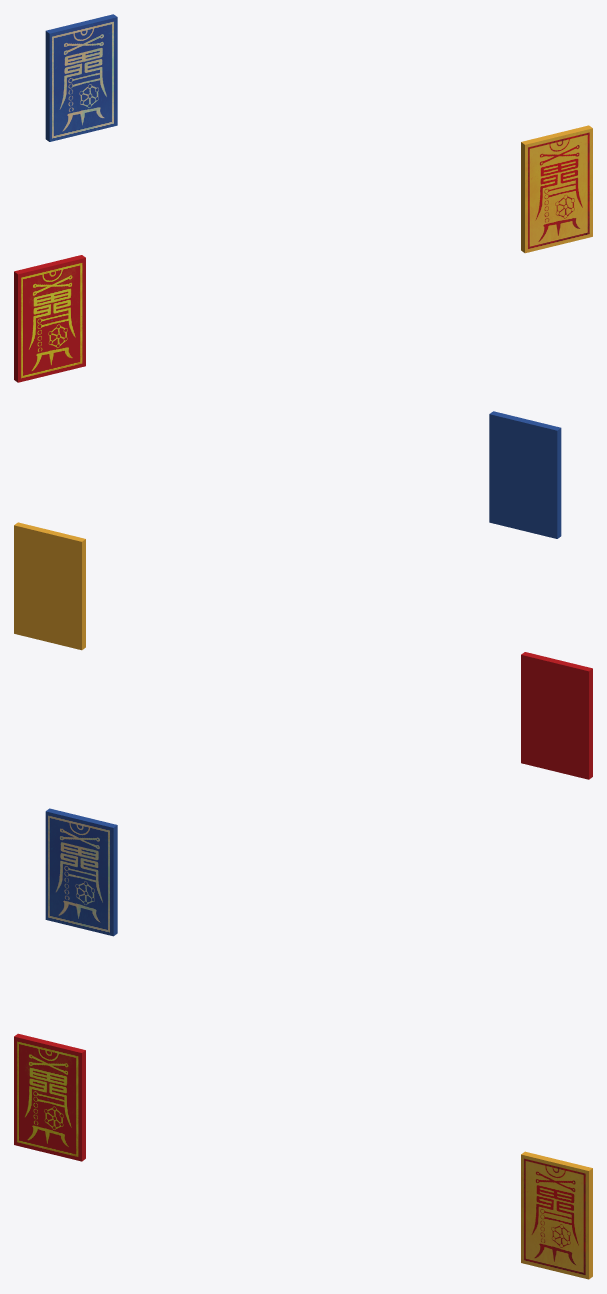
Rendered from Charm.FBX.
3 views of the same model, one above another, from view 1: azimuth 30°, elevation 25°; view 2: azimuth 150°, elevation 25°; view 3: azimuth 330°, elevation 25° (orthographic).
Parts seen in each view (by area): view 1: Charm; view 2: Charm; view 3: Charm.
Part boxes in pixels (left/top/right/bottom): Charm: left=14, top=14, right=592, bottom=382; Charm: left=14, top=411, right=592, bottom=779; Charm: left=14, top=808, right=592, bottom=1279.
Size of the model in its own units: 456 by 259 by 5.54.
